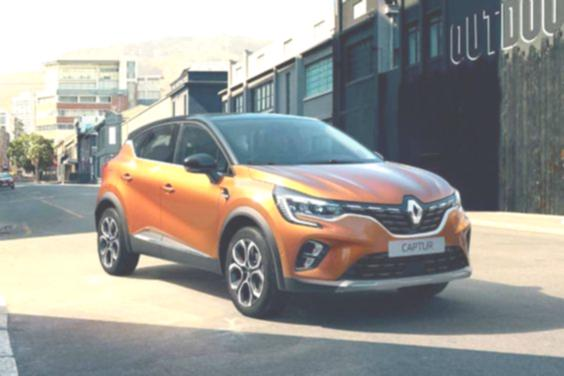Renault: (401, 193, 427, 231)
